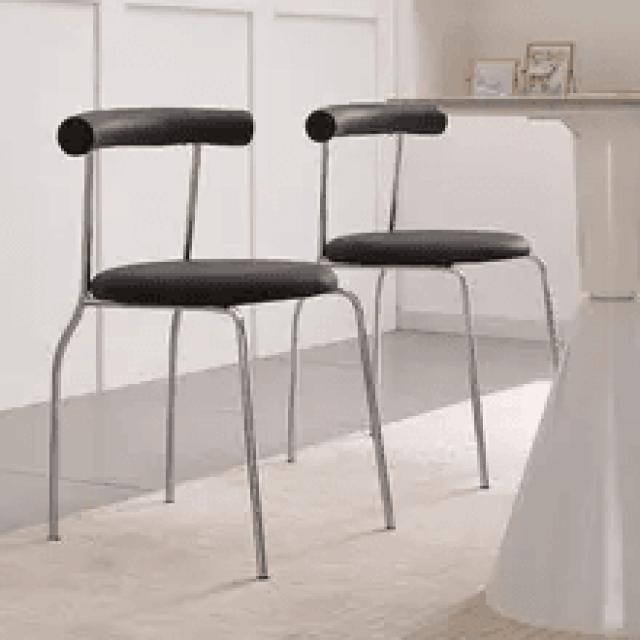chair: (47, 106, 396, 579), (287, 102, 561, 496)
